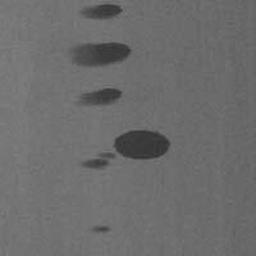Oil spot: (76, 128, 173, 170), (64, 41, 133, 69), (70, 86, 124, 109), (77, 1, 123, 22), (84, 223, 113, 236)
